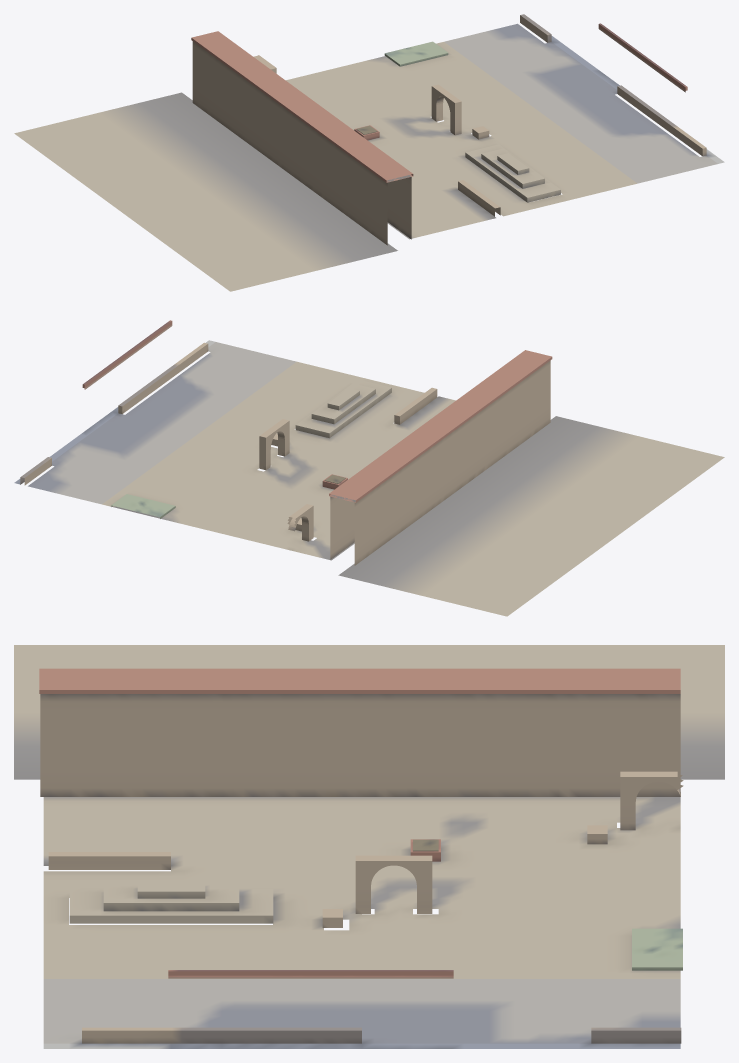
The picture shows the model from 3 angles, top to bottom: view 1: azimuth 30°, elevation 25°; view 2: azimuth 150°, elevation 25°; view 3: azimuth 270°, elevation 25°; orthographic projection. The views are drawn at different scales.
Visible parts, largest first — view 1: t; view 2: t; view 3: t.
Boxes of the visible parts, x1,y1,x2,y2 form: t: (14, 14, 724, 291); t: (14, 320, 724, 616); t: (14, 645, 724, 1048).
Size of the model in its own units: 75.1 by 9.35 by 55.81.
